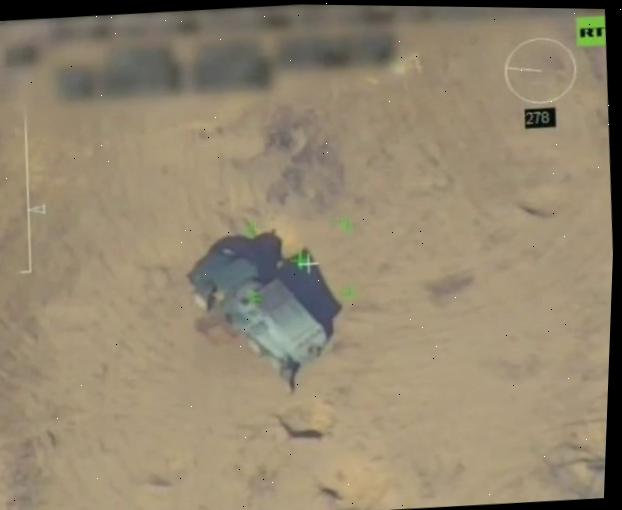rszo: (182, 239, 337, 382)
